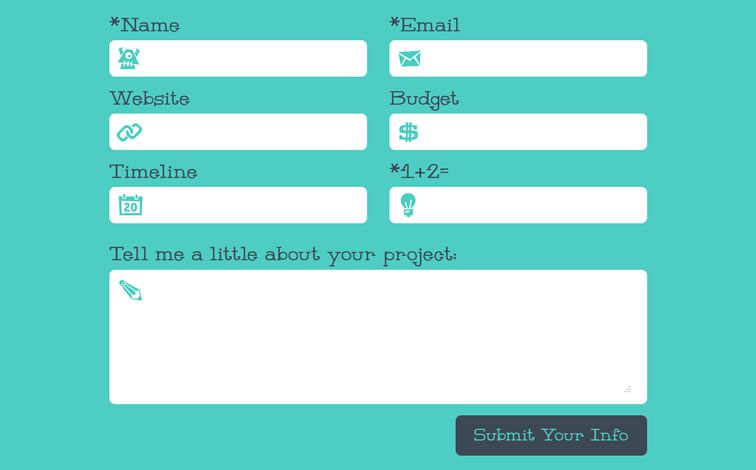_form_: (297, 54, 713, 470), (14, 1, 430, 416), (297, 1, 713, 416)
button: (455, 415, 649, 456)
field: (108, 267, 647, 405), (109, 36, 368, 78), (389, 183, 647, 225), (387, 37, 648, 78), (109, 183, 368, 224), (109, 110, 368, 151), (387, 111, 649, 151)
